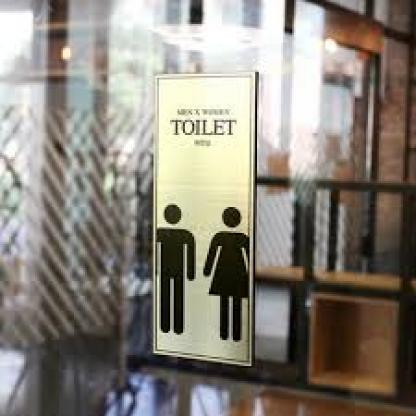toilet: (157, 205, 251, 341)
